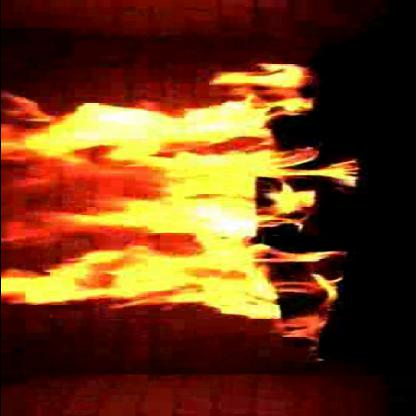Fire: (6, 103, 256, 306)
